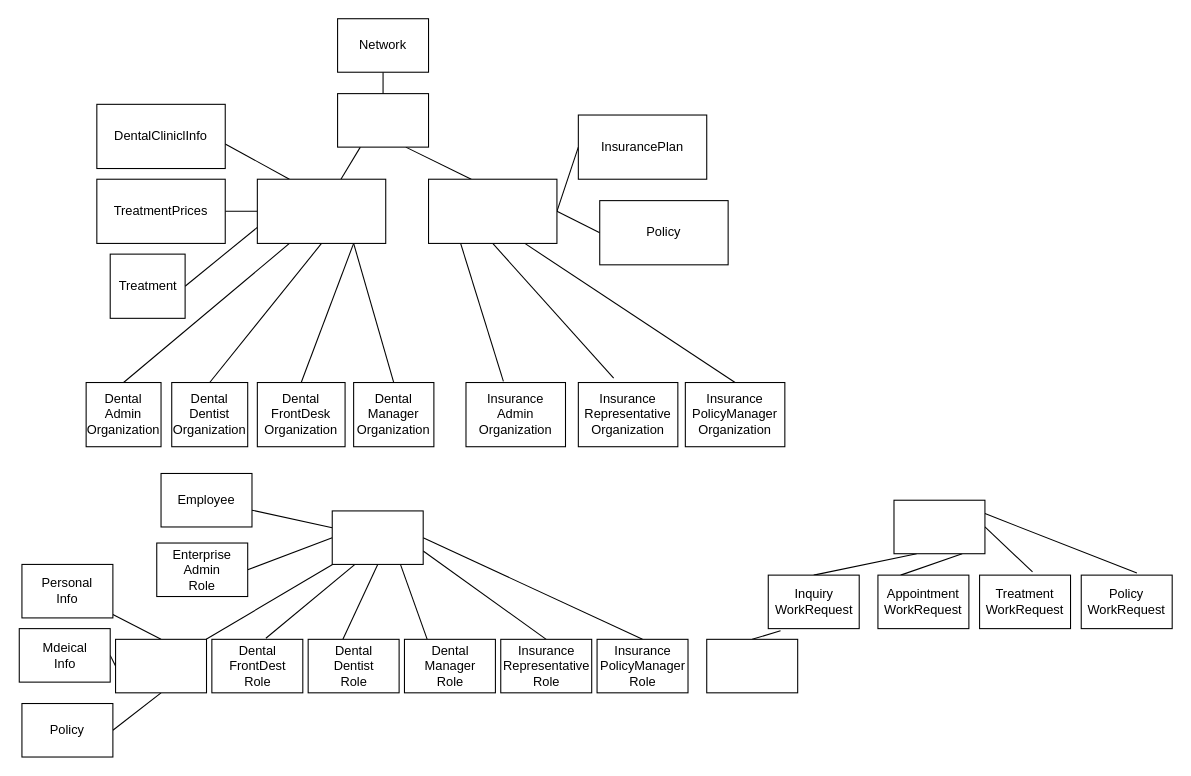
This 1191x776 diagram has some shape labels left out. Each missing label, with the centre of its shape:
"Cusotomer Role" belongs at (x=160, y=665).
"DentalClinicEnterprise" belongs at (x=321, y=210).
"Enterprise" belongs at (x=383, y=120).
"InsuranceEnterprise" belongs at (x=492, y=210).
"Message" belongs at (x=752, y=665).
"UserAccount" belongs at (x=377, y=537).
"WorkRequest" belongs at (x=939, y=526).
